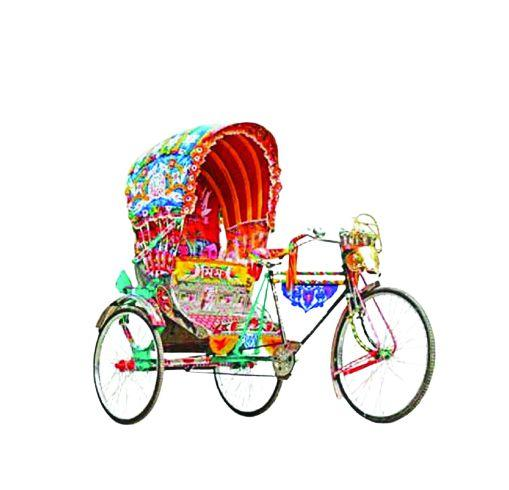Rickshaw: (94, 123, 434, 423)
